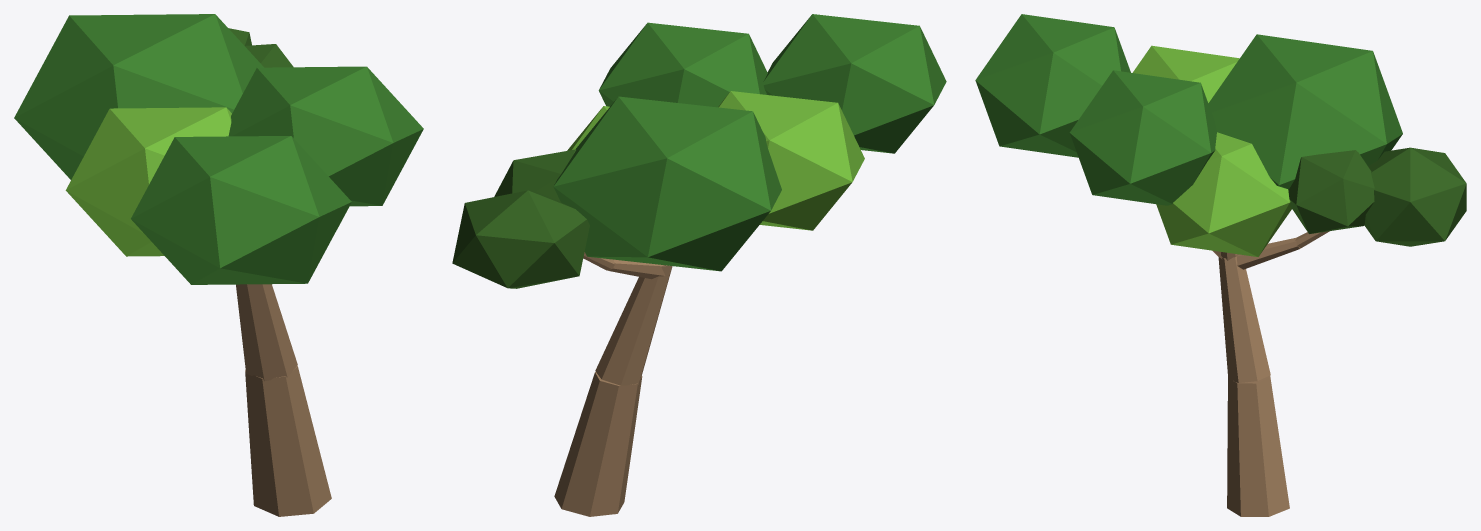
File: forest-rare-ancient-deciduous.glb
3 views of the same model, side by side, from view 1: azimuth 30°, elevation 25°; view 2: azimuth 150°, elevation 25°; view 3: azimuth 270°, elevation 25° (orthographic). The views are drawn at different scales.
Parts seen in each view (by area): view 1: Icosphere.004, Icosphere.006, Icosphere.005, Icosphere.003, Trunk0, Trunk1, Icosphere.001; view 2: Icosphere.006, Icosphere.004, Icosphere.003, Icosphere, Icosphere.005, Trunk0, Trunk1, Icosphere.001, Branch0a; view 3: Icosphere.006, Icosphere.005, Icosphere.004, Icosphere.002, Icosphere, Trunk0, Icosphere.001, Trunk1, Icosphere.003, Branch0a.
Part boxes in pixels (x1,y1,x2,y2): Icosphere.004: (131,136,351,284); Icosphere.006: (14,14,263,179); Icosphere.005: (228,66,423,206); Icosphere.003: (65,107,231,256); Trunk0: (245,366,331,516); Trunk1: (236,284,297,381); Icosphere.001: (245,44,293,67); Icosphere.006: (553,96,781,271); Icosphere.004: (763,14,946,153); Icosphere.003: (718,91,864,230); Icosphere: (452,190,589,288); Icosphere.005: (598,22,767,107); Trunk0: (554,372,642,516); Trunk1: (595,265,672,385); Icosphere.001: (494,149,575,201); Branch0a: (608,259,665,279); Icosphere.006: (1208,34,1402,189); Icosphere.005: (1069,70,1216,205); Icosphere.004: (975,14,1130,157); Icosphere.002: (1156,132,1291,256); Icosphere: (1364,147,1466,246); Trunk0: (1227,375,1289,516); Icosphere.001: (1288,150,1374,233); Trunk1: (1218,256,1270,382); Icosphere.003: (1132,45,1239,102); Branch0a: (1237,237,1300,269).
Bounding box in the file's own units: 2.72 × 3.84 × 4.22.
